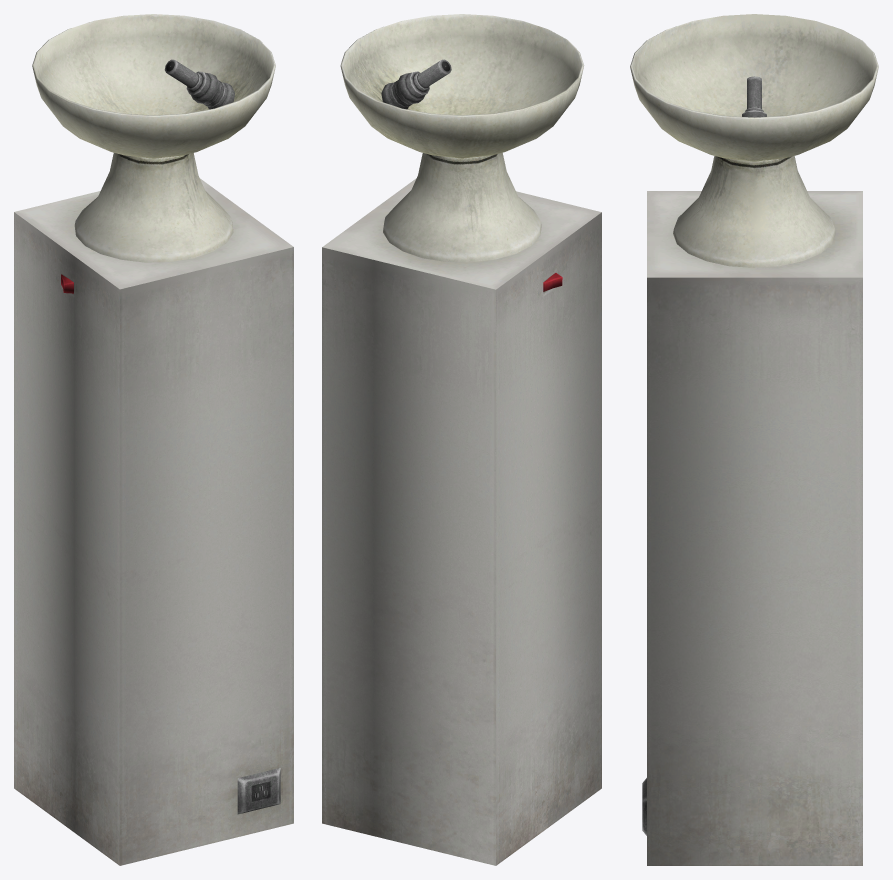
Rendered from water_fountain.dae.
3 views of the same model, side by side, from view 1: azimuth 30°, elevation 25°; view 2: azimuth 150°, elevation 25°; view 3: azimuth 270°, elevation 25° (orthographic). The views are drawn at different scales.
Visible parts, largest first — view 1: water_fountain; view 2: water_fountain; view 3: water_fountain.
Boxes of the visible parts, x1=… form: water_fountain: x1=14, y1=14, x2=293, y2=865; water_fountain: x1=322, y1=14, x2=601, y2=865; water_fountain: x1=630, y1=14, x2=878, y2=865.
Size of the model in its own units: 32.65 by 110 by 32.65.
